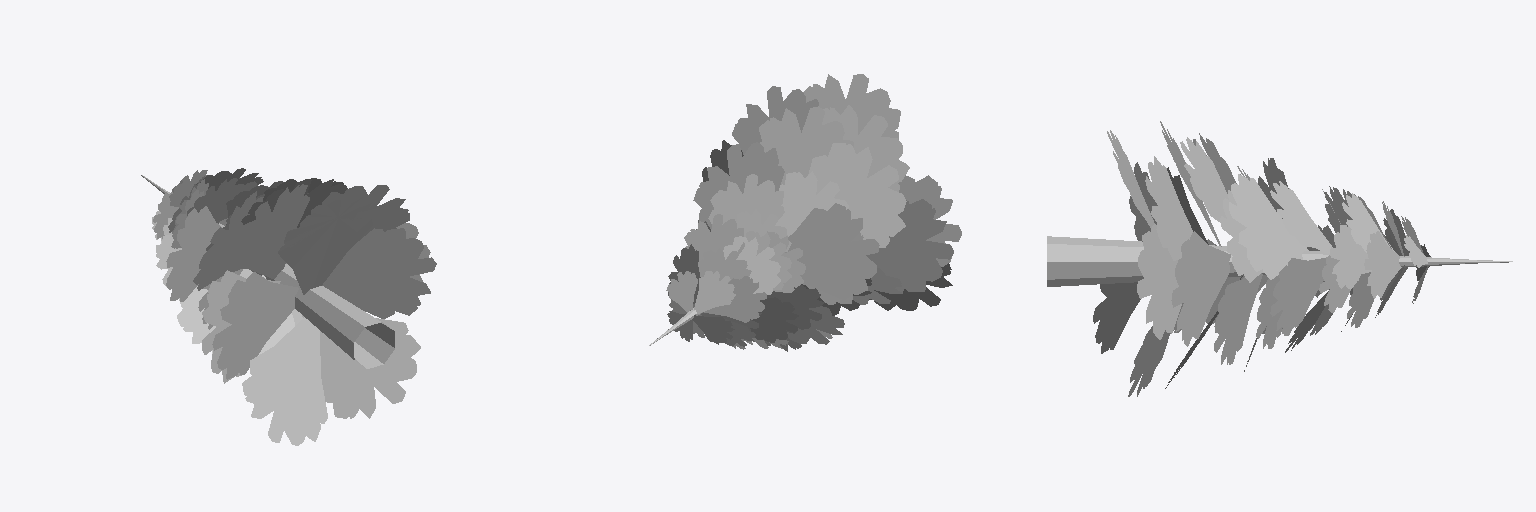
File: tree2.obj
3 renders of one model, left to right at view 1: azimuth 30°, elevation 25°; view 2: azimuth 150°, elevation 25°; view 3: azimuth 270°, elevation 25°, orthographic.
Bounding box in the file's own units: 20.95 × 20.12 × 35.17.